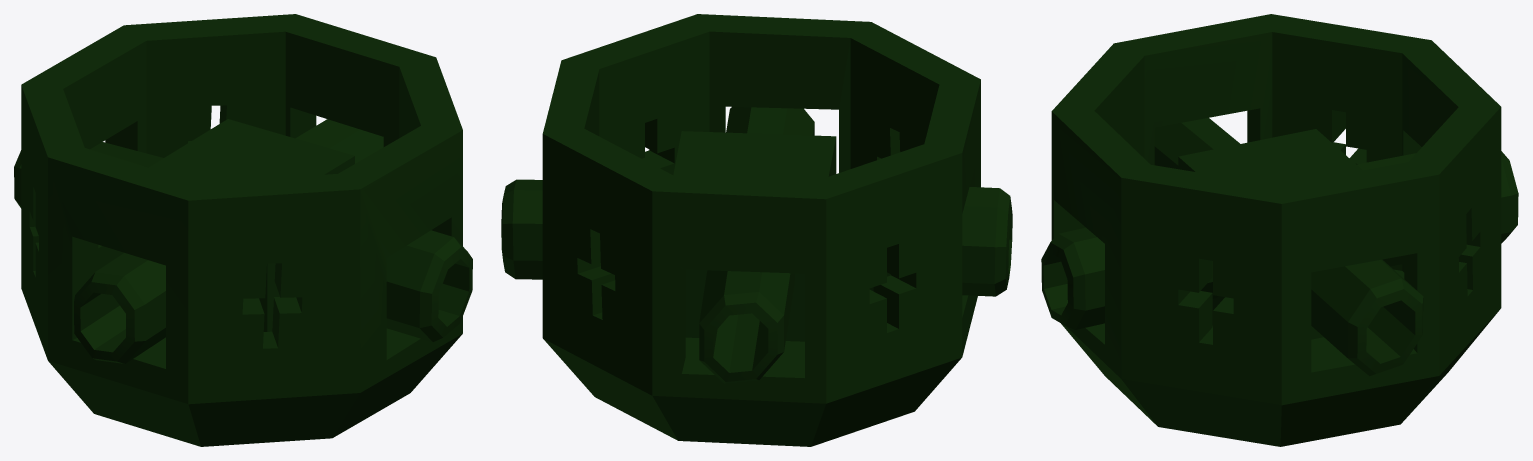
The model's file is round-tower-top-7.fbx.
The picture shows the model from 3 angles, left to right: view 1: azimuth 30°, elevation 25°; view 2: azimuth 150°, elevation 25°; view 3: azimuth 270°, elevation 25°; orthographic projection.
Parts seen in each view (by area): view 1: round-tower-top-7; view 2: round-tower-top-7; view 3: round-tower-top-7.
Boxes of the visible parts, bbox=[...] form: round-tower-top-7: bbox=[14, 14, 472, 446]; round-tower-top-7: bbox=[501, 14, 1012, 446]; round-tower-top-7: bbox=[1041, 14, 1518, 446].
Size of the model in its own units: 4.63 by 2.84 by 4.63.
